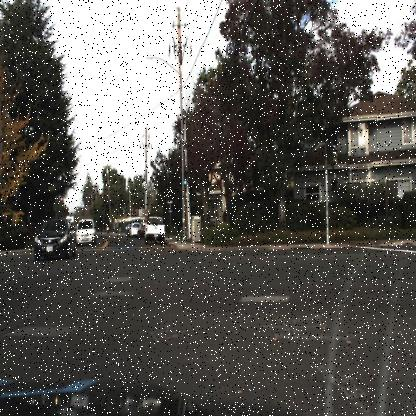car: (29, 213, 80, 267), (142, 213, 170, 248), (74, 214, 98, 252)
trafficLight-Green: (177, 164, 189, 196)
truck: (56, 213, 70, 240)
